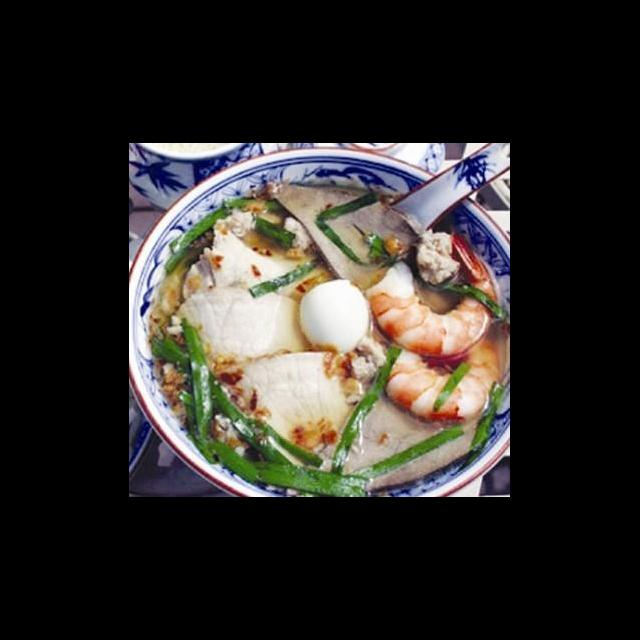gan: (342, 266, 478, 416), (131, 325, 263, 479)
thit heo: (152, 214, 294, 354), (248, 176, 365, 318), (319, 216, 445, 336)
tom: (272, 358, 422, 489), (200, 372, 322, 491)
trung: (278, 298, 369, 370)
